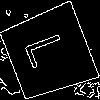L: (24, 27, 76, 70)
